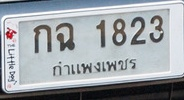txt01: (32, 23, 53, 54)
txt07: (54, 22, 76, 53)
